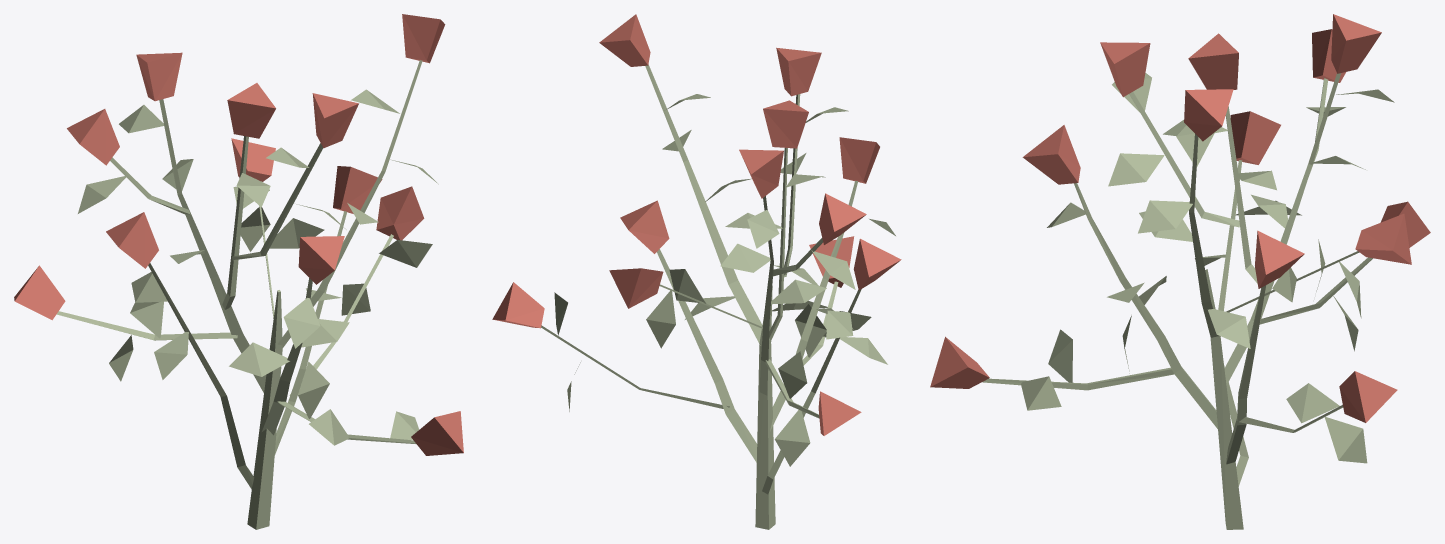
Rendered from RosaGrandiflora.glb.
3 renders of one model, left to right at view 1: azimuth 30°, elevation 25°; view 2: azimuth 150°, elevation 25°; view 3: azimuth 270°, elevation 25°, orthographic. The views are drawn at different scales.
Parts seen in each view (by area): view 1: Trunk, Crown; view 2: Trunk, Crown; view 3: Trunk, Crown.
Part boxes in pixels (x1,y1,x2,y2): Trunk: [56, 60, 438, 529]; Crown: [14, 14, 463, 455]; Trunk: [541, 64, 895, 529]; Crown: [492, 14, 901, 435]; Trunk: [982, 73, 1394, 529]; Crown: [930, 14, 1430, 422].
Bounding box in the file's own units: 1.06 × 1.23 × 1.07.
